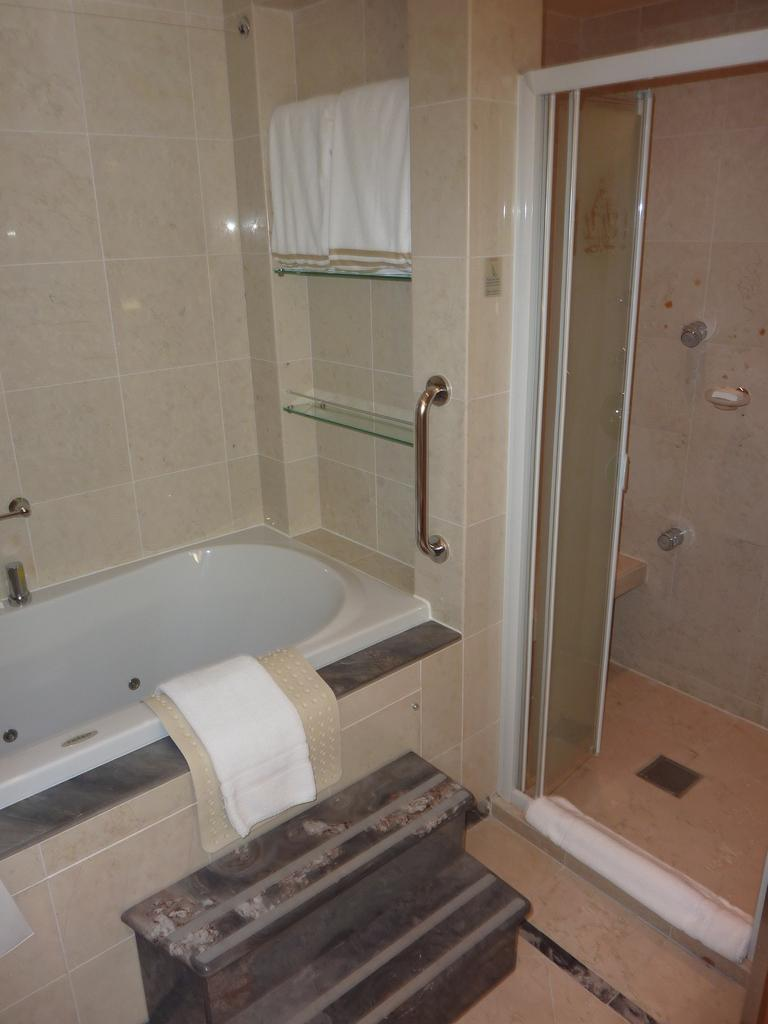handle: (414, 380, 456, 570)
